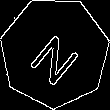N_NE: (24, 20, 86, 84)
